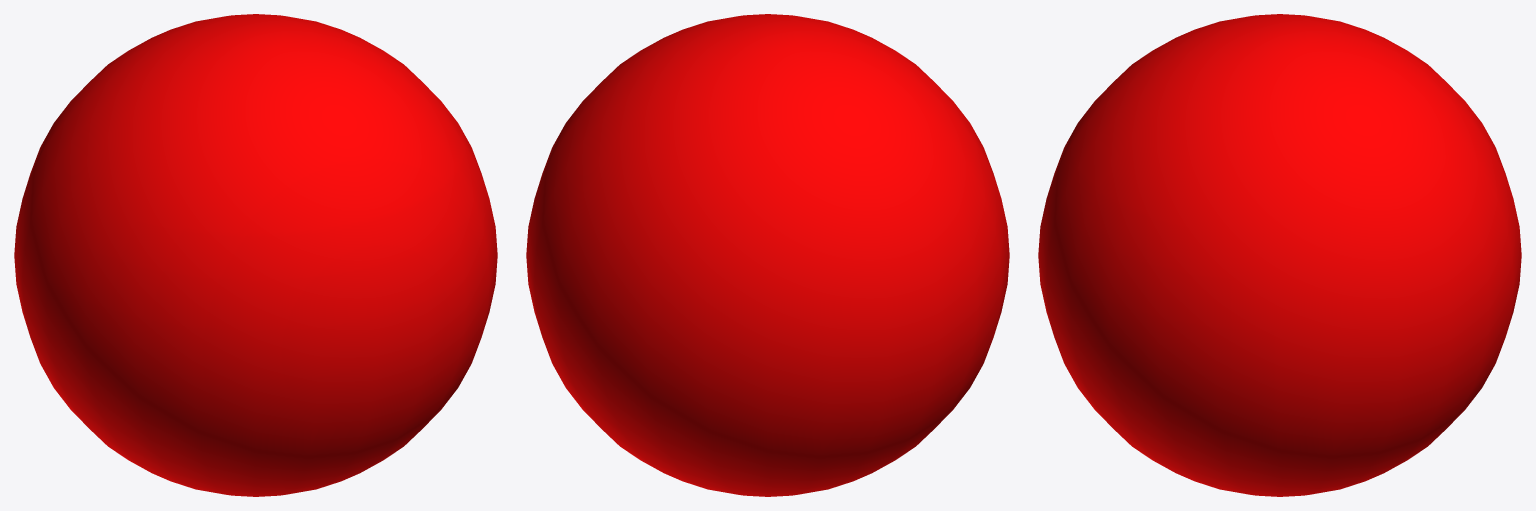
Rendered from Red Sphere.glb.
3 views of the same model, side by side, from view 1: azimuth 30°, elevation 25°; view 2: azimuth 150°, elevation 25°; view 3: azimuth 270°, elevation 25° (orthographic).
Parts seen in each view (by area): view 1: sphere.1; view 2: sphere.1; view 3: sphere.1.
Boxes of the visible parts, <box> form: sphere.1: <box>14,14,497,496</box>; sphere.1: <box>526,14,1009,496</box>; sphere.1: <box>1038,14,1521,496</box>.
Bounding box in the file's own units: 0.14 × 0.14 × 0.14.
1 material, 1 textured.
